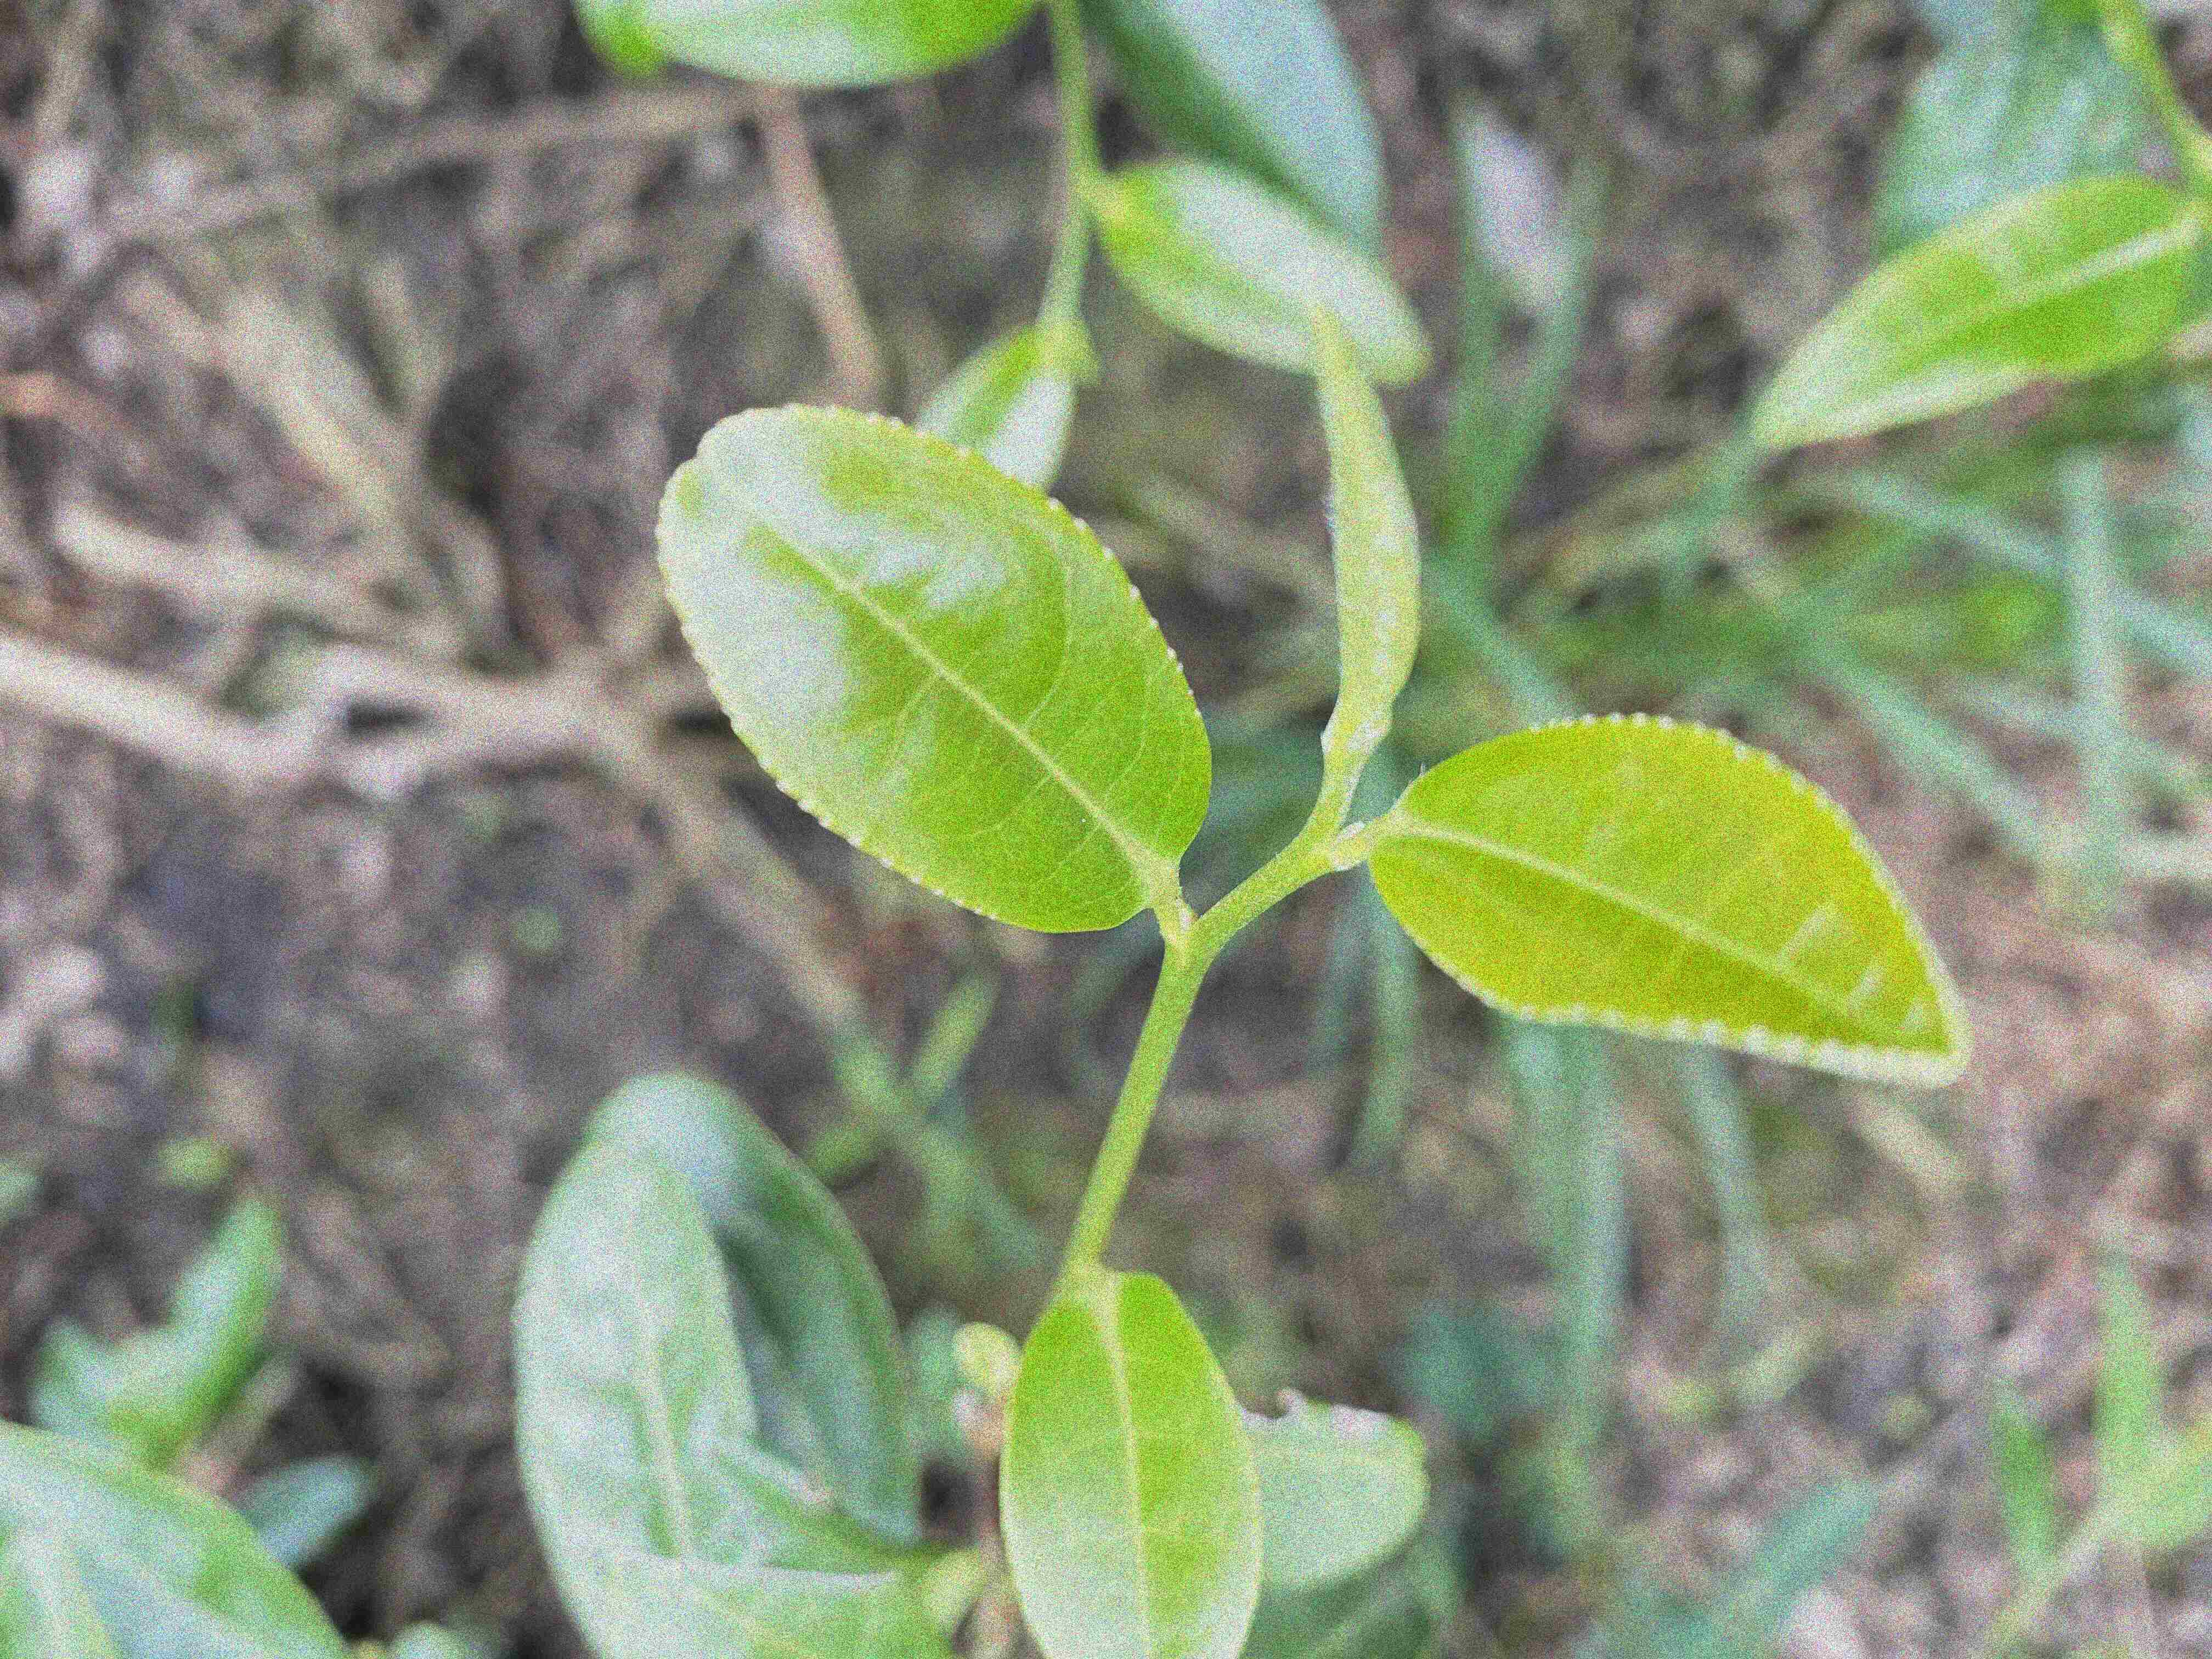healthy: (651, 401, 1219, 936), (1371, 706, 1968, 1091), (998, 1267, 1261, 1657)
